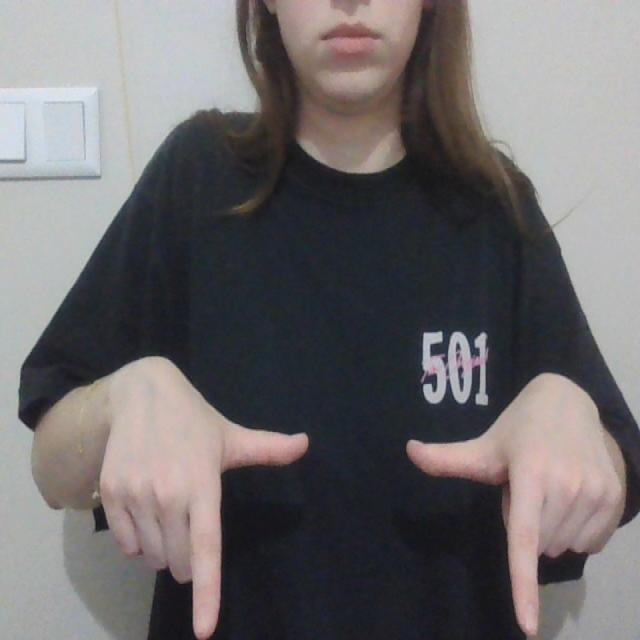Nerede: (180, 390, 561, 638)
